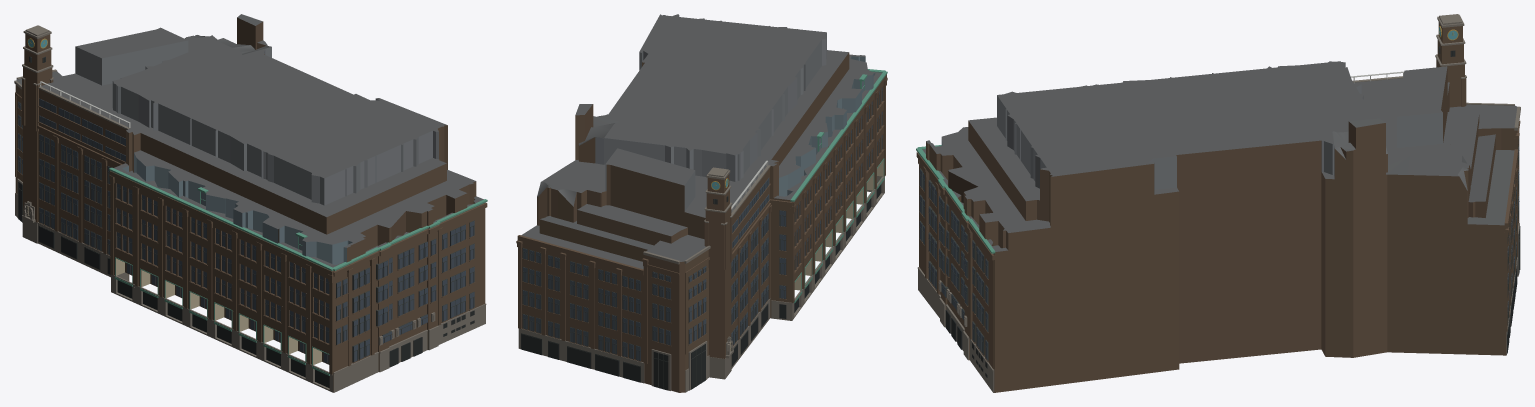
File: utrechtsestraat-9-17.glb
The picture shows the model from 3 angles, left to right: view 1: azimuth 30°, elevation 25°; view 2: azimuth 150°, elevation 25°; view 3: azimuth 270°, elevation 25°; orthographic projection. The views are drawn at different scales.
Parts seen in each view (by area): view 1: utrechtsestraat-9-17; view 2: utrechtsestraat-9-17; view 3: utrechtsestraat-9-17.
Boxes of the visible parts, x1,y1,x2,y2 form: utrechtsestraat-9-17: [14, 14, 487, 392]; utrechtsestraat-9-17: [516, 14, 887, 392]; utrechtsestraat-9-17: [916, 14, 1520, 392].
Bounding box in the file's own units: 53.6 × 40.5 × 93.94.
